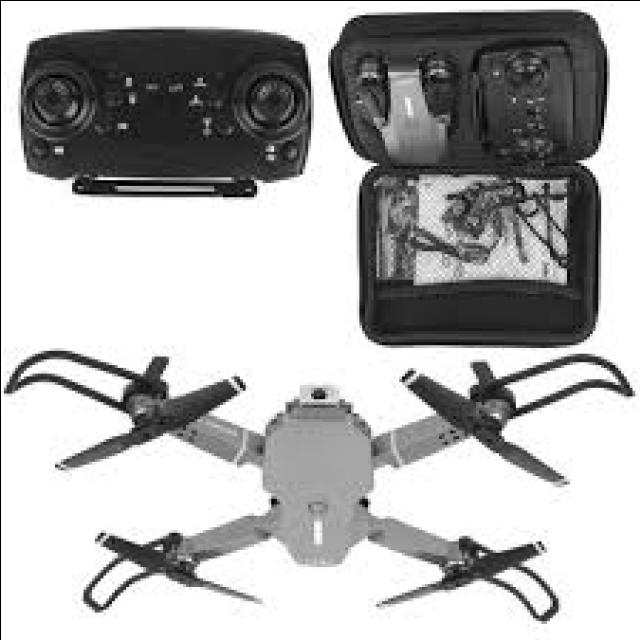drone: (0, 322, 640, 632)
